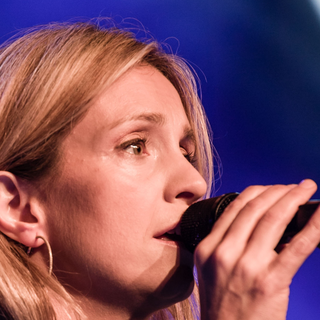eye: (111, 130, 154, 163)
